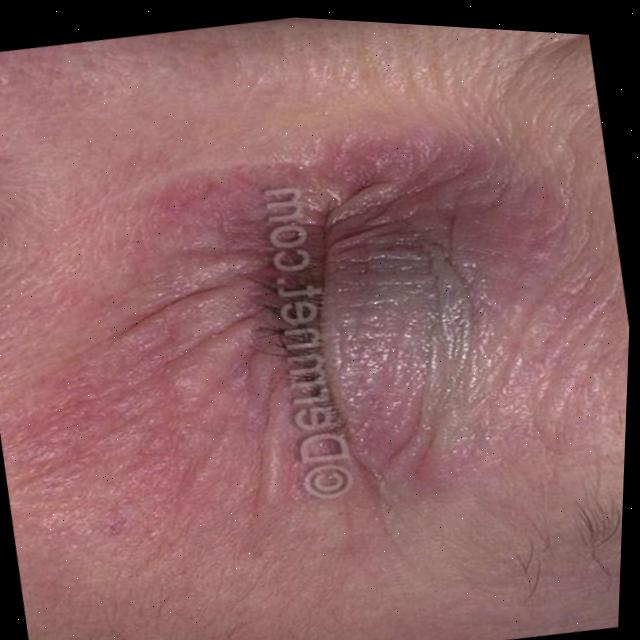Eczema: (65, 85, 628, 604)
